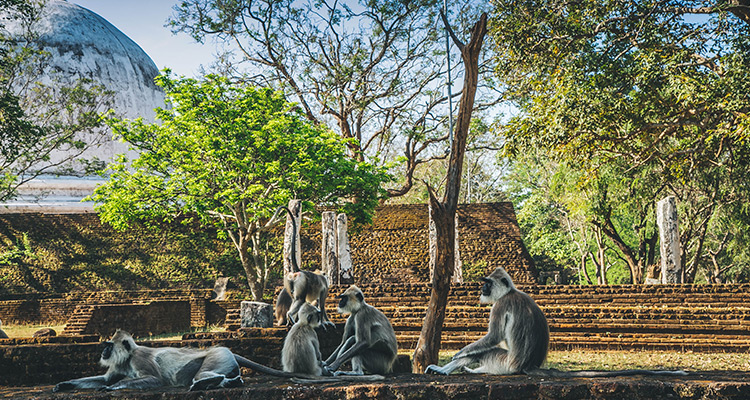Monkey: (443, 261, 559, 386), (79, 325, 252, 397), (330, 282, 406, 380)
